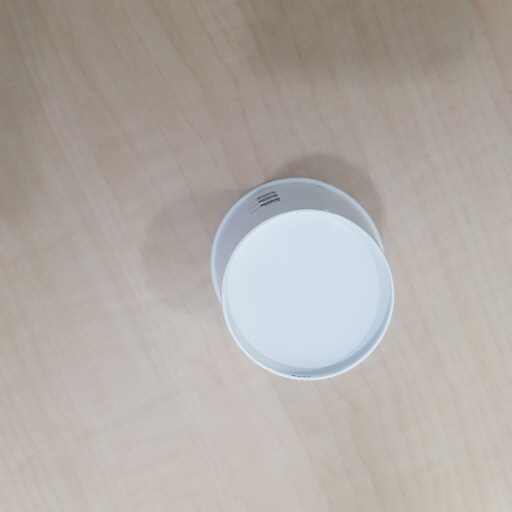Paper_1: (206, 181, 401, 379)
